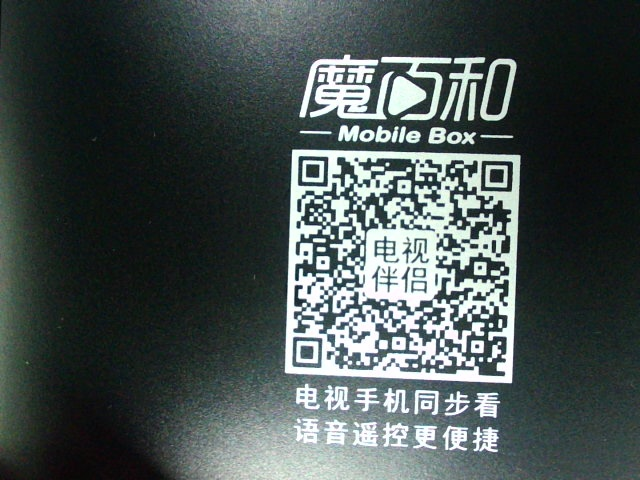AZ_MobileBox: (269, 51, 539, 458)
